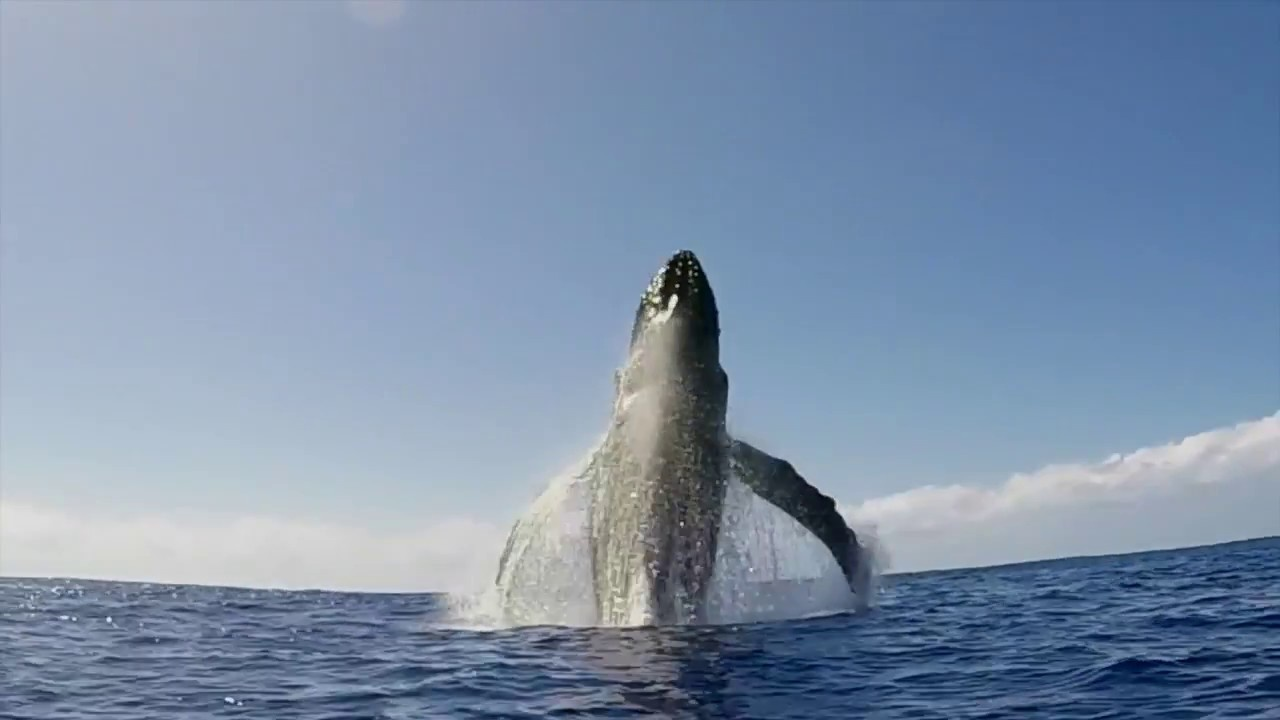humpback: (602, 248, 727, 624)
